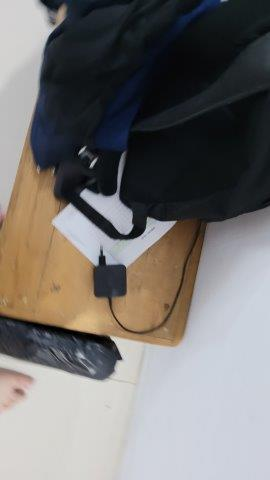kertas: (48, 149, 178, 271)
